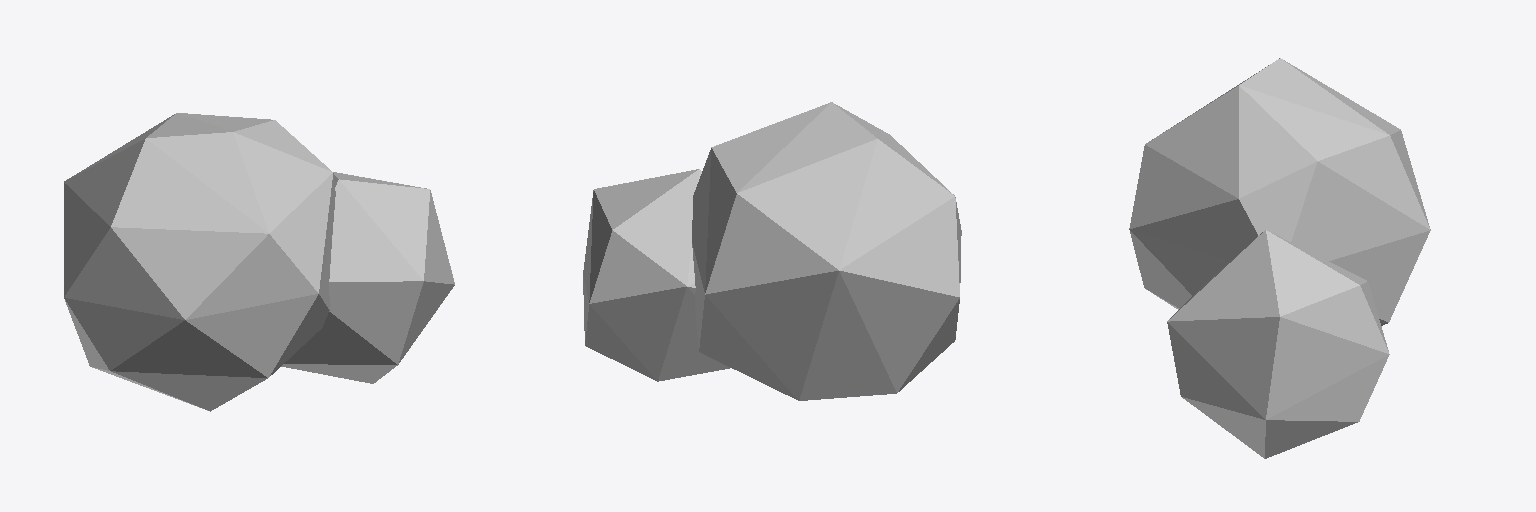
Rendered from Cloud20.obj.
3 views of the same model, side by side, from view 1: azimuth 30°, elevation 25°; view 2: azimuth 150°, elevation 25°; view 3: azimuth 270°, elevation 25° (orthographic).
Parts seen in each view (by area): view 1: Cloud20_Object_82_Object_39.001; view 2: Cloud20_Object_82_Object_39.001; view 3: Cloud20_Object_82_Object_39.001.
Boxes of the visible parts, x1=… form: Cloud20_Object_82_Object_39.001: x1=64, y1=113, x2=454, y2=411; Cloud20_Object_82_Object_39.001: x1=583, y1=102, x2=961, y2=400; Cloud20_Object_82_Object_39.001: x1=1129, y1=58, x2=1430, y2=458.
Bounding box in the file's own units: 1.05 × 0.7803 × 0.7128.